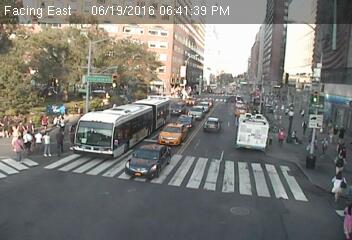neg: (284, 101, 302, 125), (106, 68, 123, 90), (95, 129, 107, 146), (70, 100, 81, 115)
pos: (329, 171, 351, 200), (39, 129, 58, 156), (337, 203, 351, 237), (9, 135, 27, 159), (20, 128, 37, 150), (333, 151, 349, 173), (336, 124, 350, 144), (318, 136, 332, 155), (33, 130, 46, 147), (298, 118, 310, 134), (10, 121, 19, 132)
